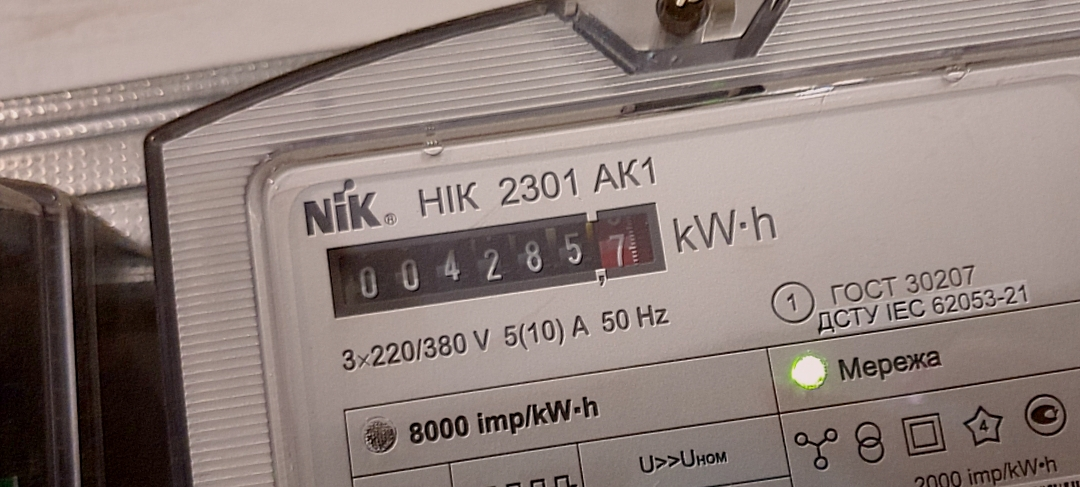0: (397, 254, 423, 293), (356, 261, 381, 299)
2: (480, 244, 504, 282)
4: (441, 245, 462, 282)
5: (560, 227, 585, 266)
7: (606, 230, 630, 268)
8: (520, 236, 546, 275)
screen: (309, 188, 683, 332)
